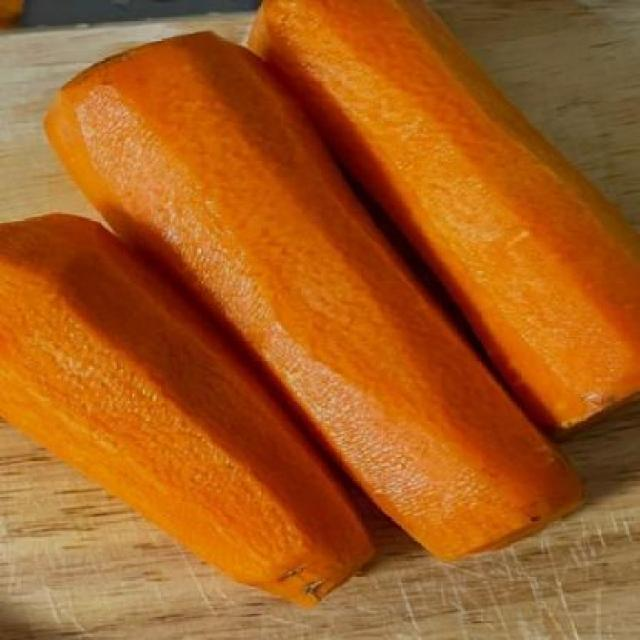carrot: (51, 22, 594, 561), (244, 0, 640, 435), (4, 212, 390, 610)
